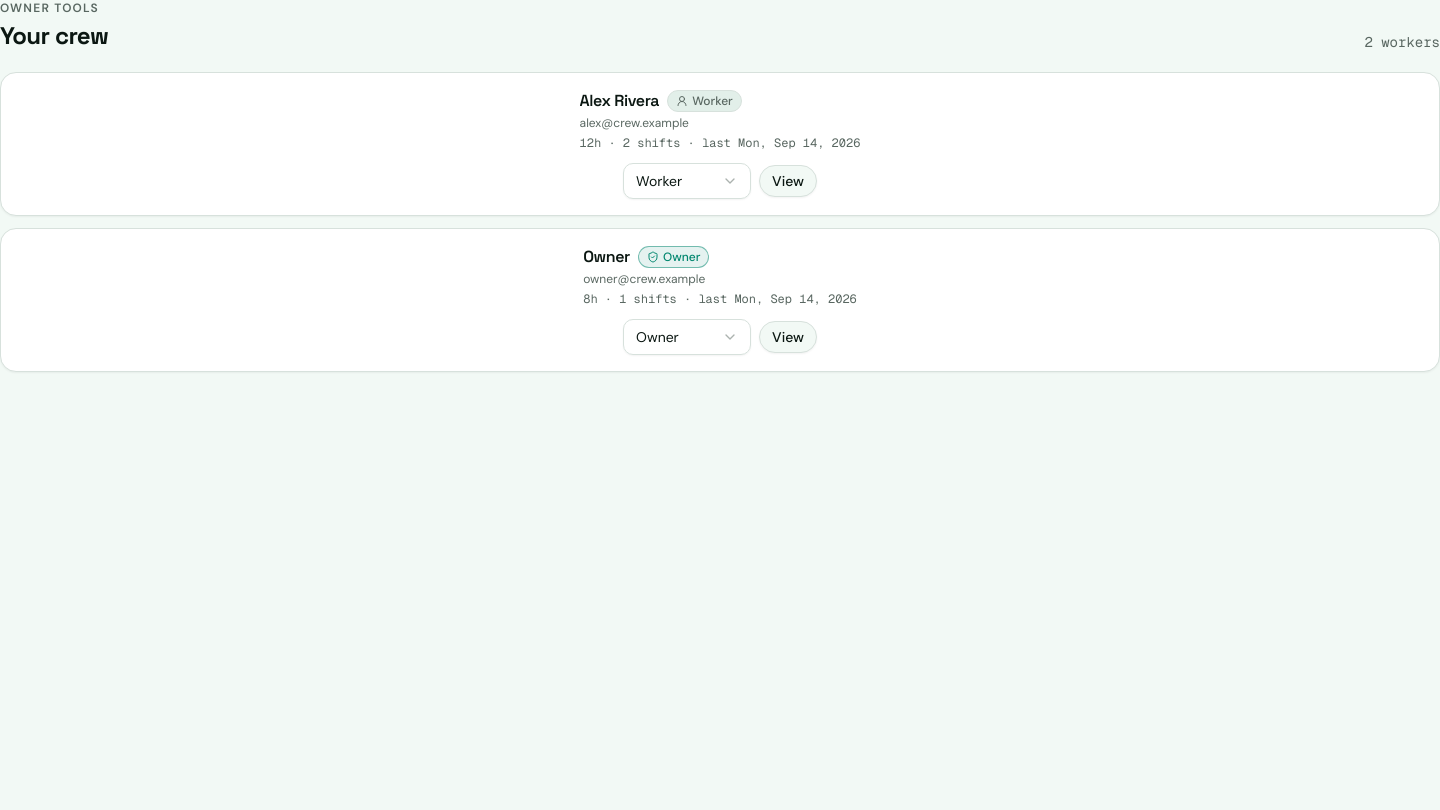
Test: OwnerWorkers › opens a worker's profile with their shift history and report
Click the button with test id "workers.open_button.1".
click(788, 181)  # box x1=759 y1=165 x2=817 y2=197
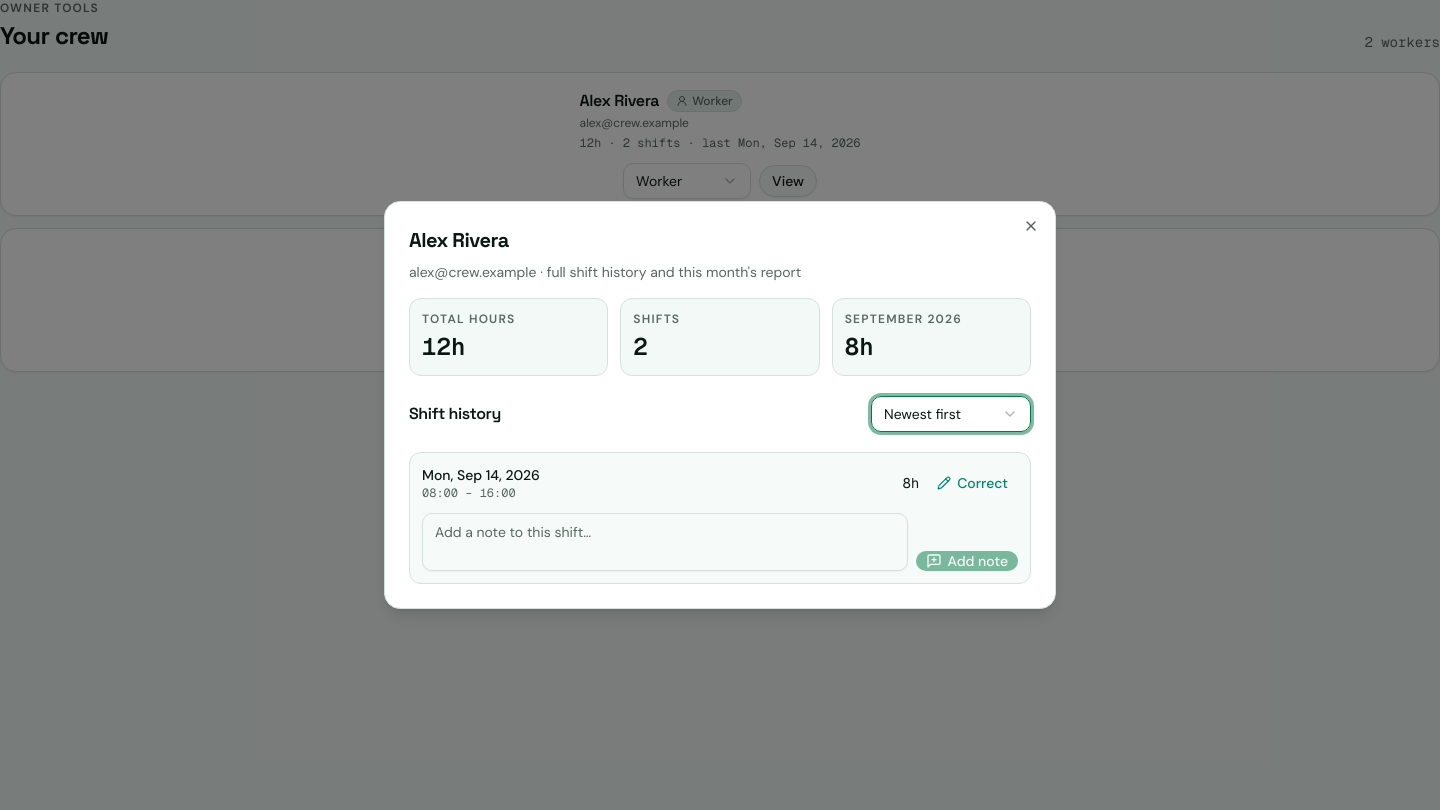
Now the dialog with test id "workers.detail_dialog" is shown, box x1=384 y1=201 x2=1056 y2=609
Now the list with test id "workers.detail_shift_list" is shown, box x1=409 y1=452 x2=1031 y2=584
